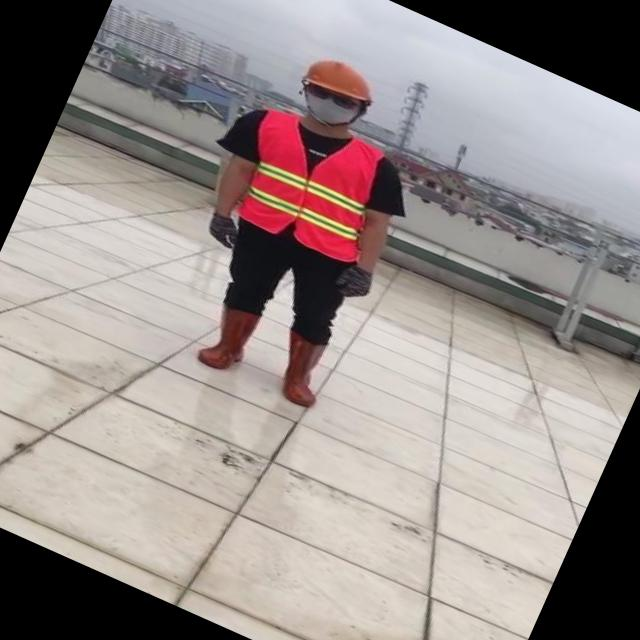hard_hat: (298, 48, 383, 110)
safety_vest: (220, 100, 398, 266)
vehicle: (130, 27, 458, 420)
work_boots: (262, 328, 343, 413), (190, 294, 264, 380)
